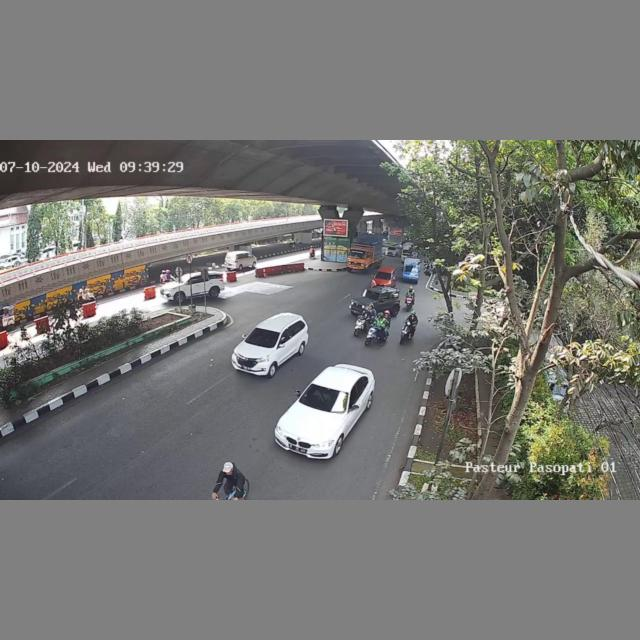windshield: (301, 384, 350, 410), (245, 328, 281, 348), (363, 290, 379, 301), (374, 272, 393, 281)
